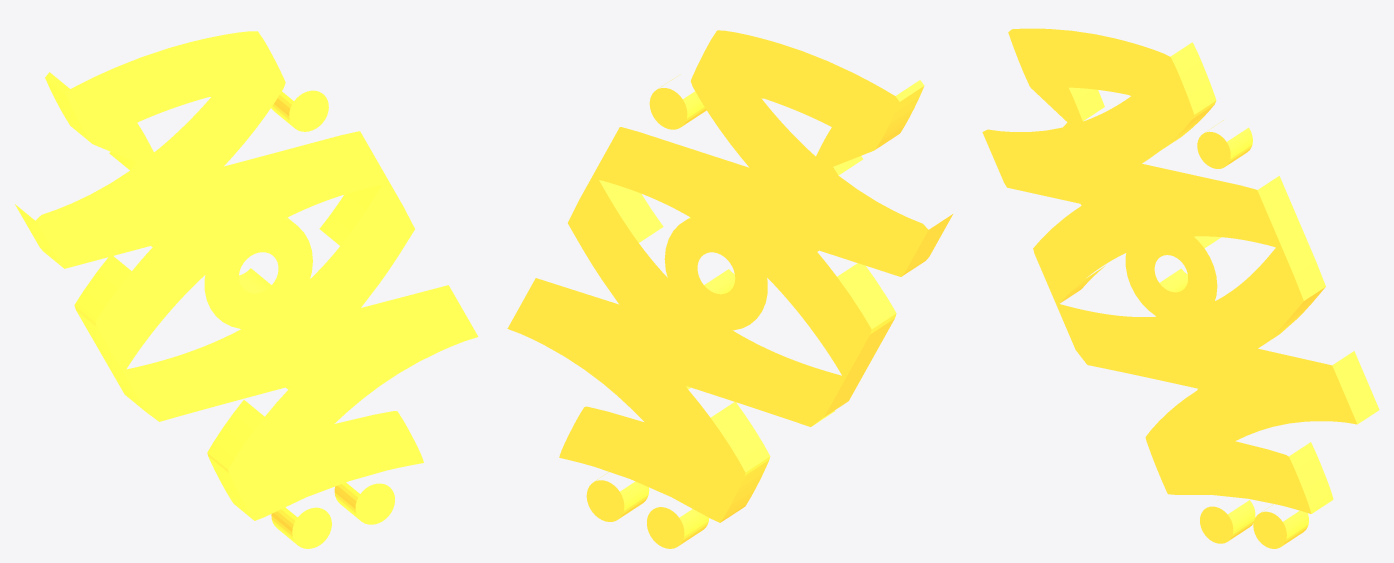
The model's file is mark.glb.
The picture shows the model from 3 angles, left to right: view 1: azimuth 30°, elevation 25°; view 2: azimuth 150°, elevation 25°; view 3: azimuth 330°, elevation 25°; orthographic projection. The views are drawn at different scales.
Parts seen in each view (by area): view 1: DjarriMark; view 2: DjarriMark; view 3: DjarriMark.
Part boxes in pixels (box(x1,y1,x2,y2)): DjarriMark: box(15, 31, 478, 548); DjarriMark: box(507, 30, 952, 548); DjarriMark: box(982, 28, 1379, 548).
Bounding box in the file's own units: 0.85 × 1 × 0.1187.
